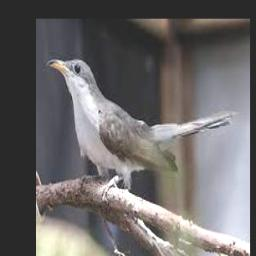Cuckoo: (47, 58, 238, 200)
